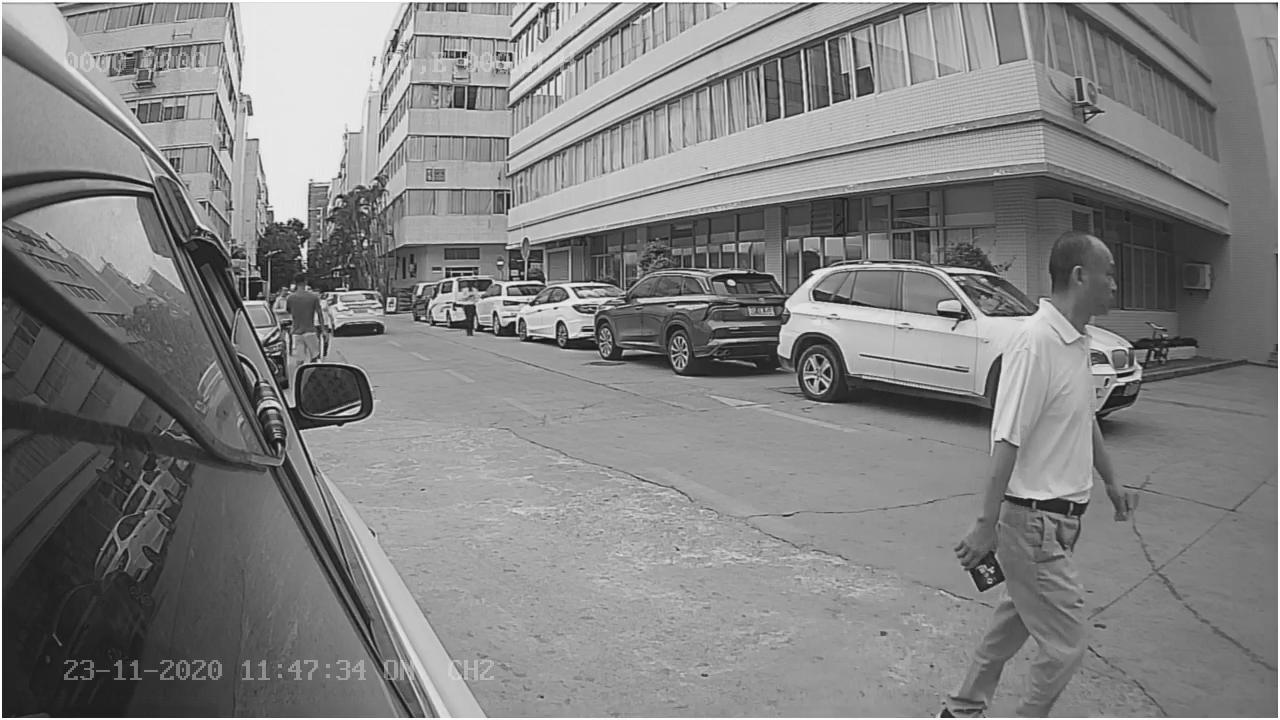person: (942, 216, 1145, 588)
